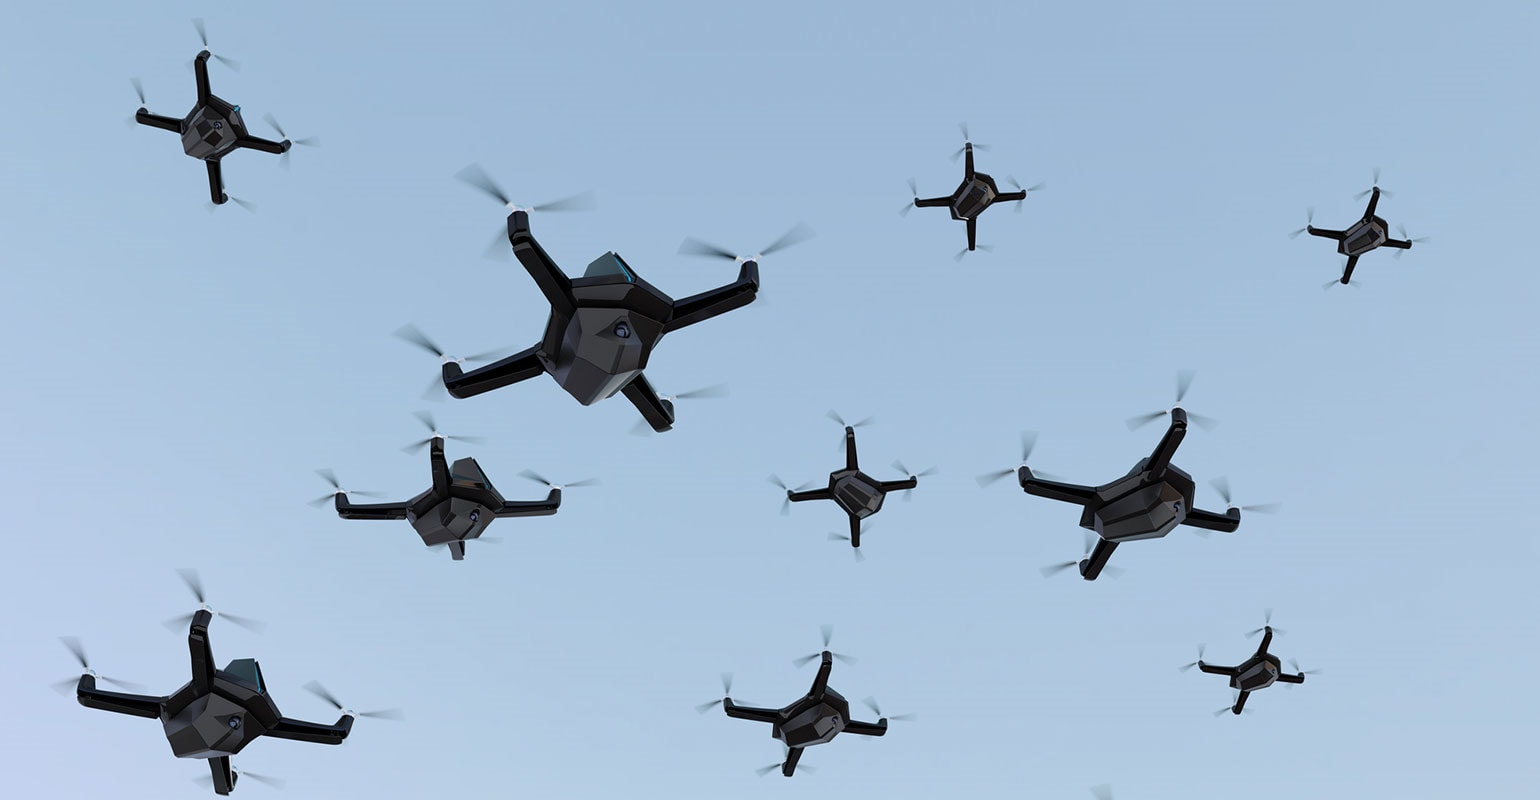drone: (389, 160, 826, 445), (41, 567, 408, 796), (976, 370, 1289, 586), (304, 413, 606, 565), (113, 16, 325, 222), (695, 621, 915, 782), (769, 402, 938, 562), (892, 122, 1055, 264), (1283, 168, 1439, 296), (1176, 609, 1331, 722)
